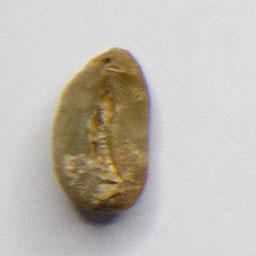premium: (48, 42, 153, 219)
